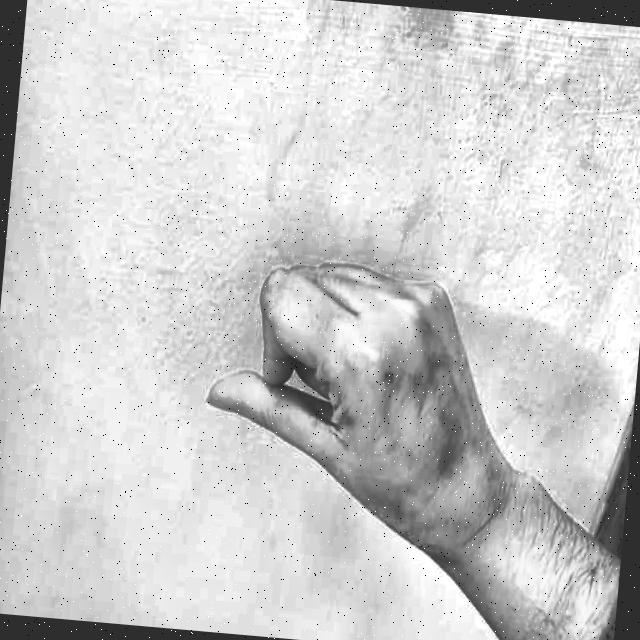Ay: (166, 208, 545, 574)
